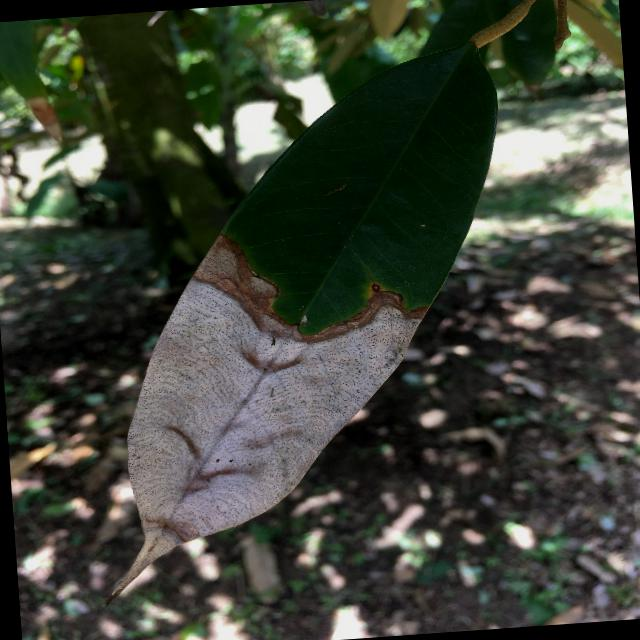Leaf Blight: (88, 34, 540, 586)
